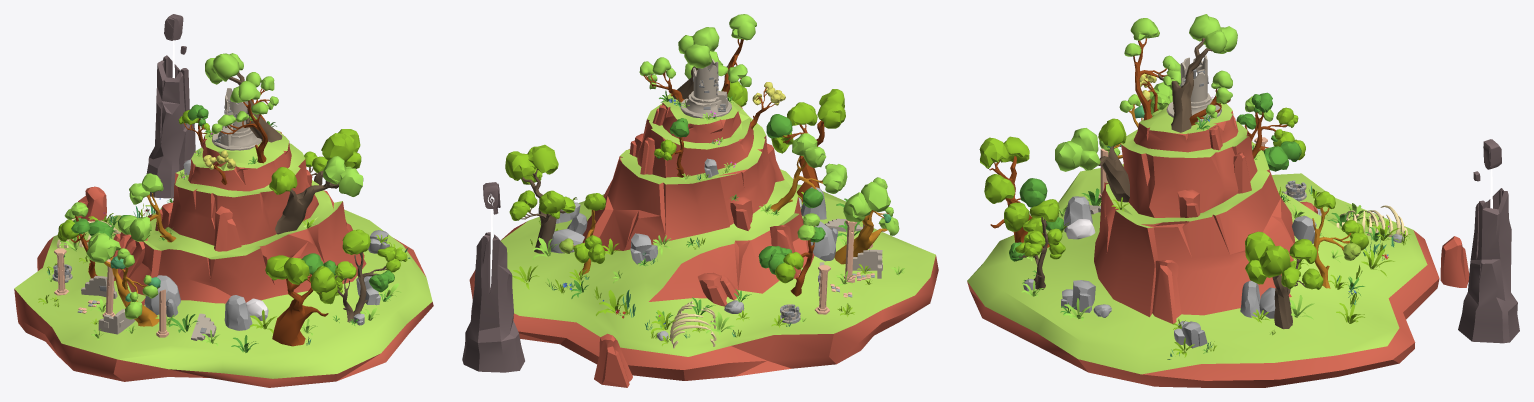
The model's file is toon_island_1.glb.
3 views of the same model, side by side, from view 1: azimuth 30°, elevation 25°; view 2: azimuth 150°, elevation 25°; view 3: azimuth 270°, elevation 25° (orthographic). The views are drawn at different scales.
Visible parts, largest first — view 1: Object_232, Object_231, Object_8, Object_242, Object_196, Object_4, Object_29, Object_83, Object_244, Object_207, Object_38, Object_6 (+5 smaller); view 2: Object_231, Object_232, Object_242, Object_8, Object_196, Object_4, Object_29, Object_244, Object_358, Object_207, Object_6, Object_364 (+6 smaller); view 3: Object_231, Object_232, Object_242, Object_196, Object_8, Object_83, Object_244, Object_29, Object_358, Object_4, Object_207, Object_41 (+7 smaller).
Boxes of the visible parts, left/top/right/bottom form: Object_232: left=14, top=130, right=432, bottom=378; Object_231: left=14, top=132, right=433, bottom=387; Object_8: left=64, top=53, right=363, bottom=319; Object_242: left=57, top=110, right=407, bottom=304; Object_196: left=146, top=14, right=195, bottom=198; Object_4: left=53, top=88, right=261, bottom=340; Object_29: left=70, top=88, right=328, bottom=346; Object_83: left=228, top=72, right=386, bottom=322; Object_244: left=71, top=104, right=394, bottom=292; Object_207: left=144, top=275, right=252, bottom=330; Object_38: left=54, top=248, right=168, bottom=337; Object_6: left=104, top=193, right=176, bottom=326; Object_231: left=469, top=102, right=938, bottom=387; Object_232: left=501, top=91, right=935, bottom=356; Object_242: left=505, top=81, right=845, bottom=283; Object_8: left=639, top=14, right=899, bottom=240; Object_196: left=462, top=182, right=524, bottom=372; Object_4: left=680, top=59, right=882, bottom=323; Object_29: left=644, top=39, right=824, bottom=296; Object_244: left=657, top=114, right=825, bottom=274; Object_358: left=512, top=101, right=872, bottom=345; Object_207: left=550, top=187, right=835, bottom=340; Object_6: left=573, top=157, right=888, bottom=275; Object_364: left=530, top=100, right=904, bottom=334; Object_231: left=967, top=111, right=1469, bottom=387; Object_232: left=967, top=99, right=1427, bottom=374; Object_242: left=979, top=107, right=1368, bottom=289; Object_196: left=1458, top=139, right=1519, bottom=343; Object_8: left=1055, top=14, right=1273, bottom=171; Object_83: left=1018, top=38, right=1309, bottom=329; Object_244: left=1009, top=92, right=1301, bottom=261; Object_29: left=989, top=38, right=1287, bottom=247; Object_358: left=1061, top=121, right=1410, bottom=357; Object_4: left=1089, top=55, right=1306, bottom=214; Object_207: left=1064, top=196, right=1403, bottom=318; Object_41: left=1072, top=180, right=1306, bottom=348.
Size of the model in its own units: 142 by 94.32 by 165.
